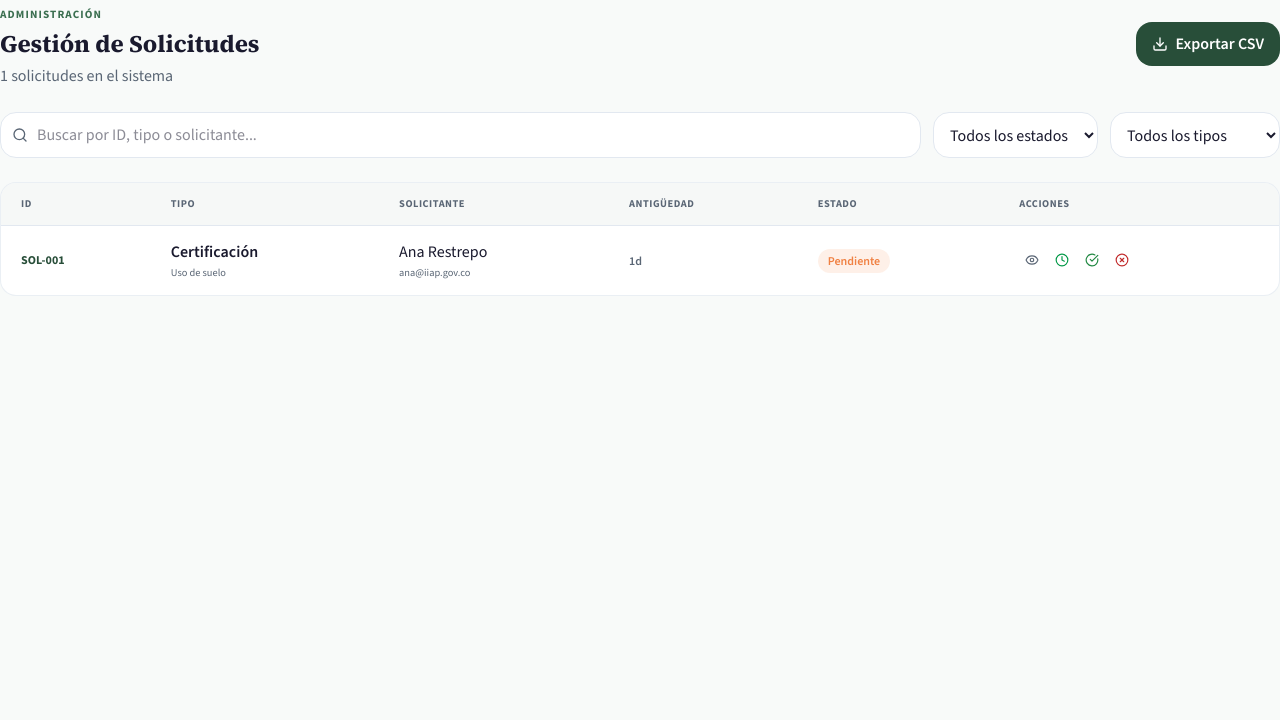
it: GestionSolicitudes — rechazar › si falla la acción, muestra un toast de error genérico
Click the button titled "Ver detalle": click(1032, 260) top-left (1019, 247), bottom-right (1045, 273)
(page scrolled)
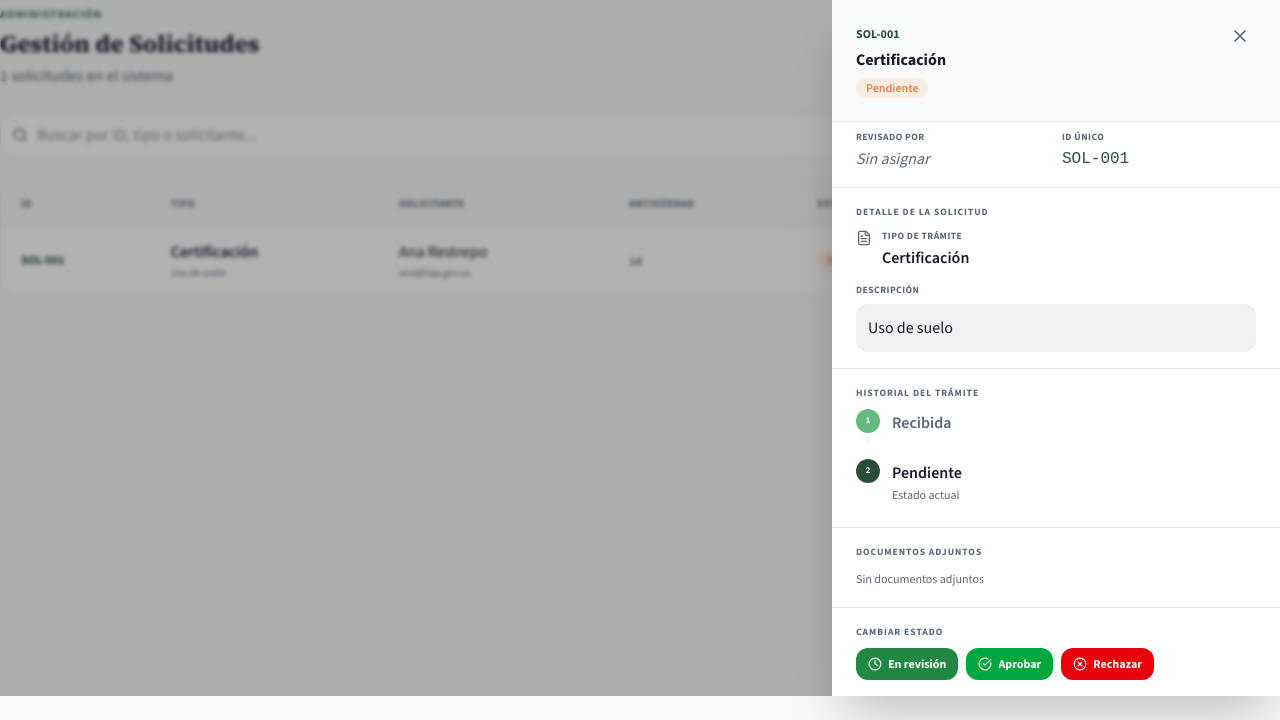
Click the button "Aprobar": click(1010, 664) top-left (966, 648), bottom-right (1053, 680)
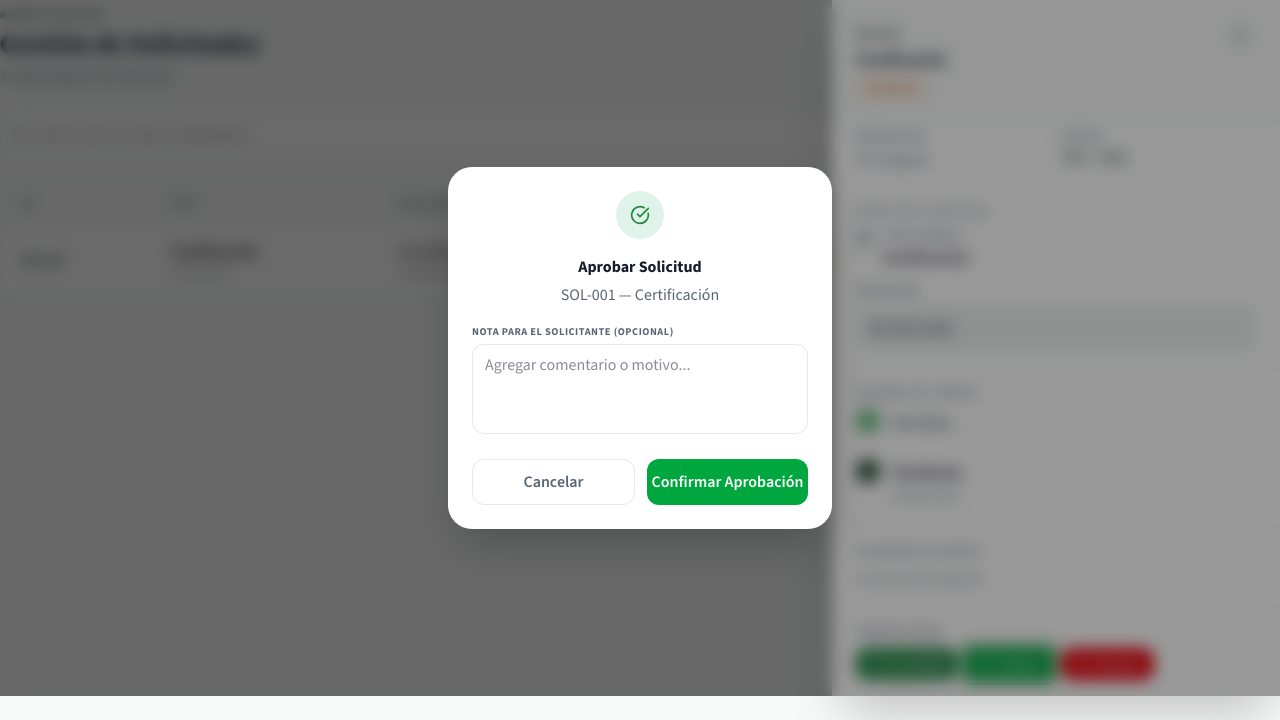
Click the button "Confirmar Aprobación": click(728, 482) top-left (647, 459), bottom-right (808, 505)
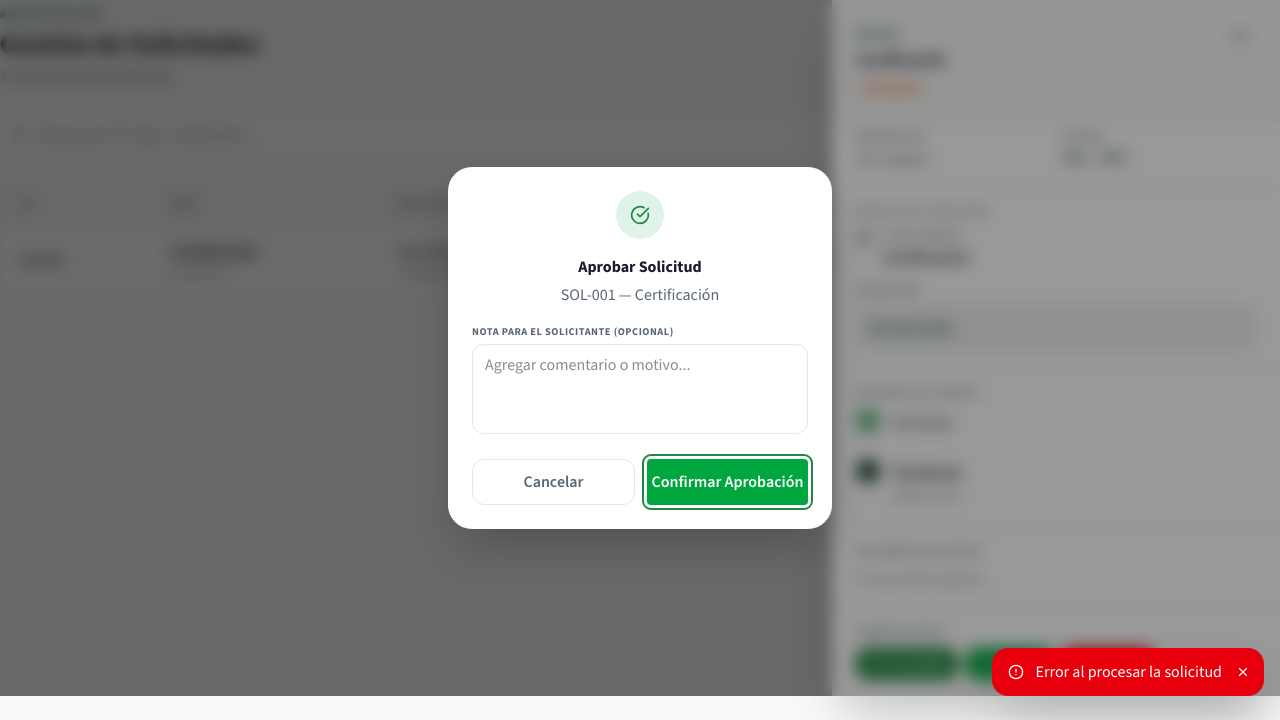
Expected: the text "Error al procesar la solicitud" is shown, top-left (1036, 660), bottom-right (1222, 684)
